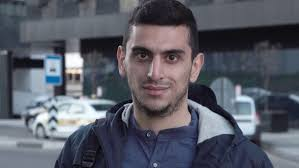middle_eastern_male: (127, 18, 192, 108)
